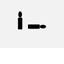human: (15, 9, 24, 30), (25, 22, 47, 30)
